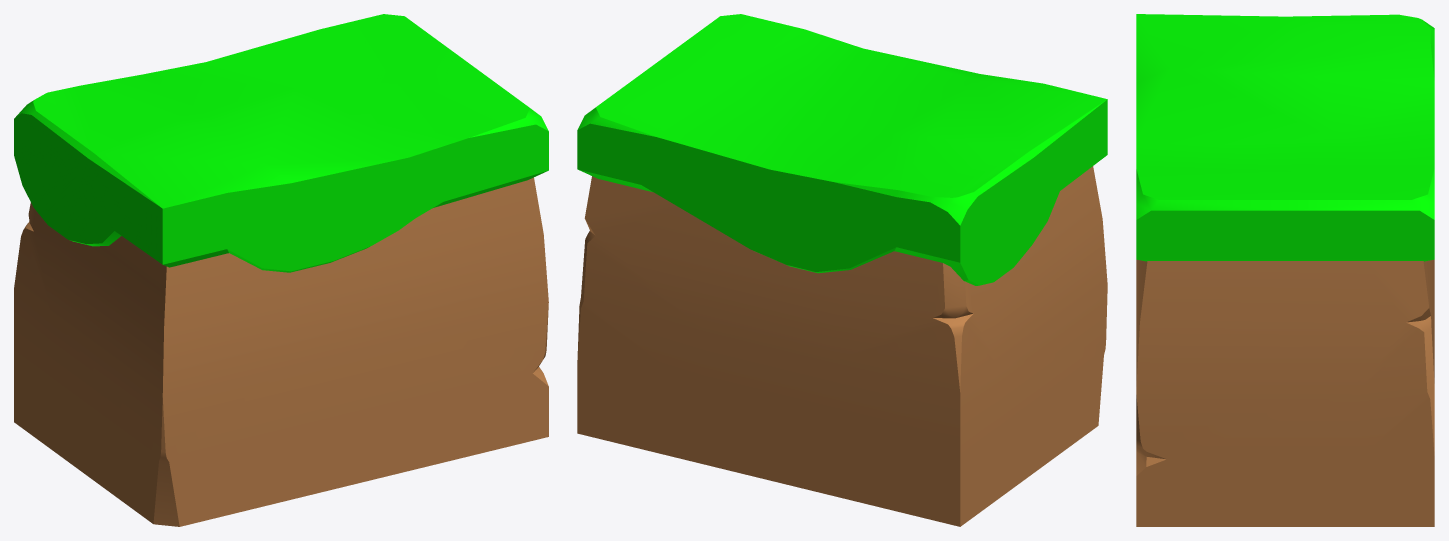
The model's file is SM_GrassGround_12.FBX.
The picture shows the model from 3 angles, left to right: view 1: azimuth 30°, elevation 25°; view 2: azimuth 150°, elevation 25°; view 3: azimuth 270°, elevation 25°; orthographic projection.
Visible parts, largest first — view 1: 12 (×2); view 2: 12 (×2); view 3: 12 (×2).
Part boxes in pixels (<box>): 12 (×2): <box>14,14,548,526</box>; 12 (×2): <box>577,14,1107,526</box>; 12 (×2): <box>1136,14,1434,526</box>.
Bounding box in the file's own units: 150 × 121 × 99.92.
